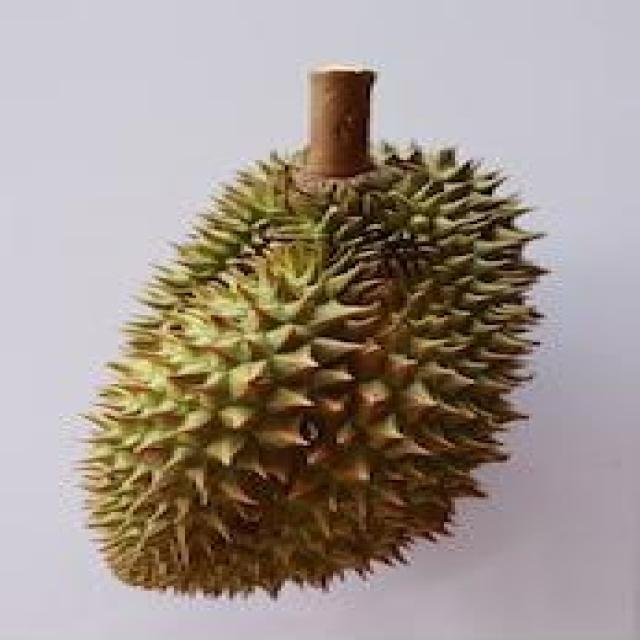mature: (77, 146, 552, 610)
